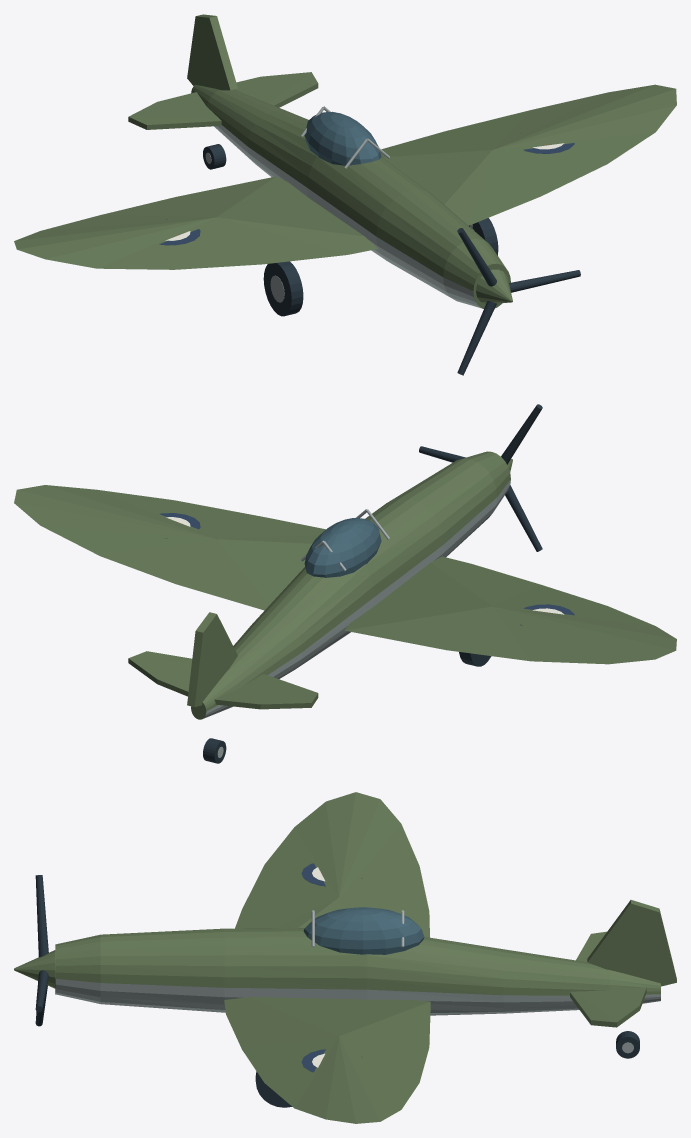
The model's file is scendance-plan-spitfire-aircraft.glb.
The picture shows the model from 3 angles, top to bottom: view 1: azimuth 30°, elevation 25°; view 2: azimuth 150°, elevation 25°; view 3: azimuth 270°, elevation 25°; orthographic projection. The views are drawn at different scales.
Bounding box in the file's own units: 11.23 × 2.56 × 9.48.
